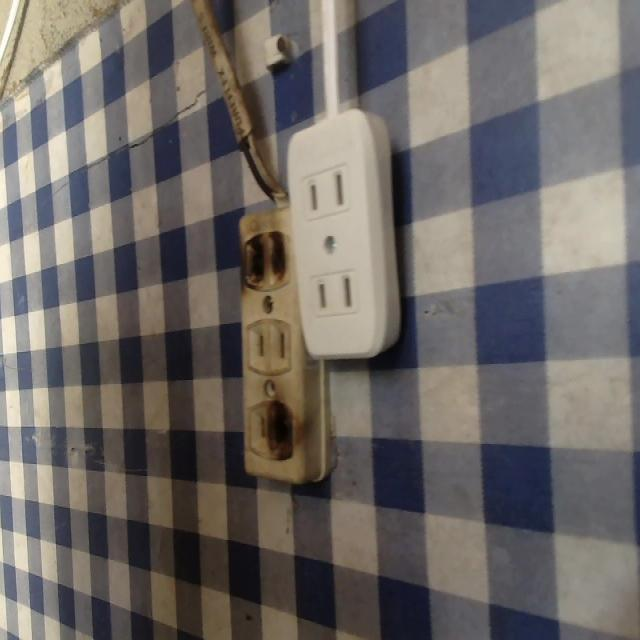-: (241, 228, 290, 292), (266, 400, 298, 461)
